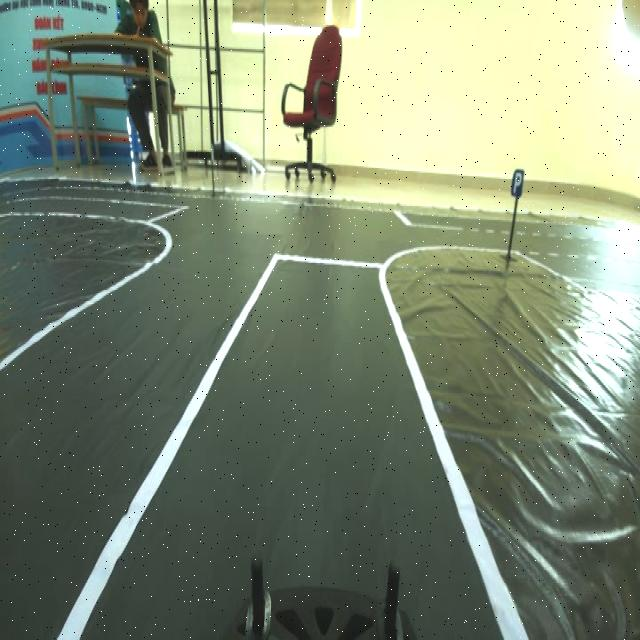parking: (506, 160, 528, 200)
